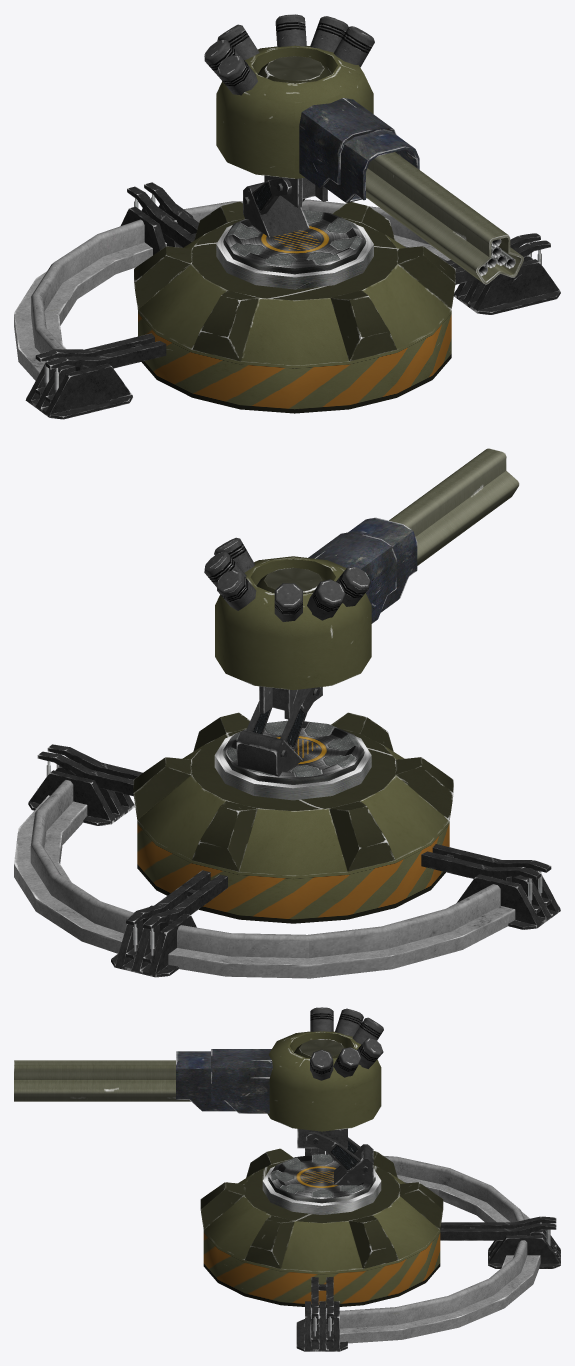
Rendered from mini_turret_tower_07.fbx.
3 views of the same model, one above another, from view 1: azimuth 30°, elevation 25°; view 2: azimuth 150°, elevation 25°; view 3: azimuth 270°, elevation 25° (orthographic). The views are drawn at different scales.
Visible parts, largest first — view 1: body (×2), holder (×2), barrels, leg_bottom (×3), leg_arm (×3), decor (×2), decor2; view 2: body (×2), holder (×2), leg_arm (×3), leg_bottom (×3), barrels, decor (×2), decor2; view 3: body (×2), holder (×2), barrels, decor (×2), decor2, leg_bottom (×2), leg_arm (×2).
Part boxes in pixels (x1,y1,x2,y2): body (×2): [134, 45, 455, 413]; holder (×2): [14, 199, 450, 380]; barrels: [366, 152, 523, 284]; leg_bottom (×3): [25, 204, 560, 419]; leg_arm (×3): [35, 182, 550, 403]; decor (×2): [216, 177, 373, 289]; decor2: [204, 14, 374, 95]; body (×2): [133, 517, 453, 923]; holder (×2): [14, 720, 515, 978]; leg_arm (×3): [37, 744, 551, 963]; leg_bottom (×3): [28, 766, 560, 977]; barrels: [389, 448, 519, 565]; decor (×2): [214, 687, 371, 800]; decor2: [204, 537, 370, 621]; body (×2): [176, 1031, 443, 1307]; holder (×2): [268, 1154, 540, 1343]; barrels: [14, 1060, 190, 1101]; decor (×2): [262, 1131, 381, 1214]; decor2: [310, 1007, 383, 1080]; leg_bottom (×2): [296, 1229, 560, 1351]; leg_arm (×2): [311, 1216, 556, 1341].
Size of the model in its own units: 7.52 by 4.28 by 9.24.
